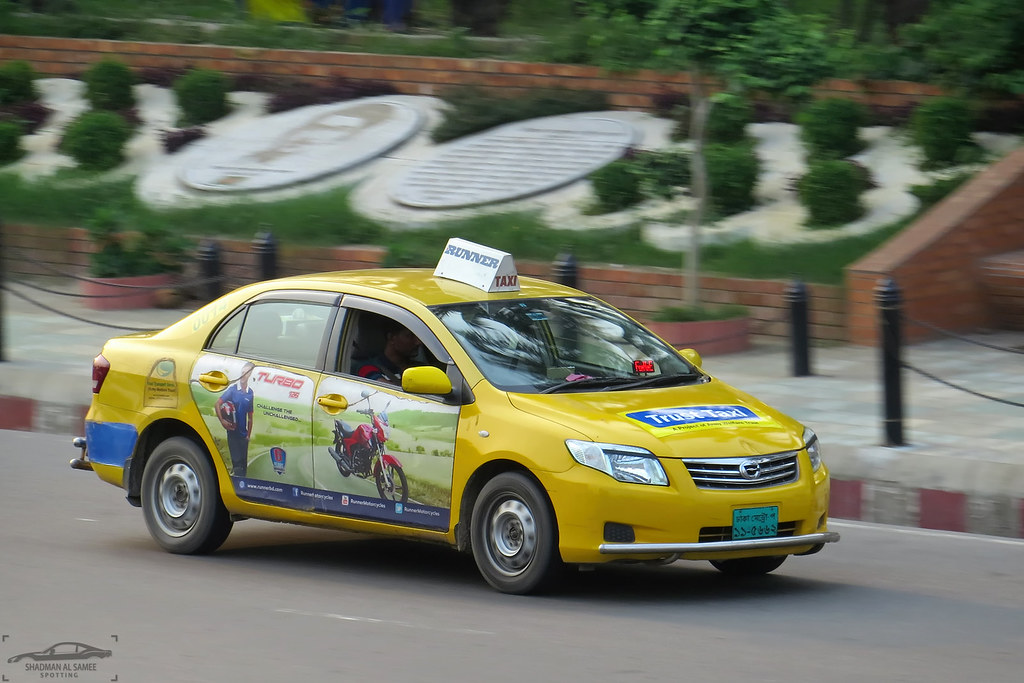taxi: (65, 234, 841, 593)
